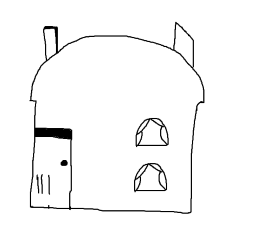chimney: (165, 18, 198, 69), (34, 21, 65, 58)
door: (26, 120, 75, 213)
open_window: (128, 112, 173, 150), (131, 162, 171, 196)
single_line_roof: (21, 33, 209, 103)
wall: (25, 103, 201, 220)
